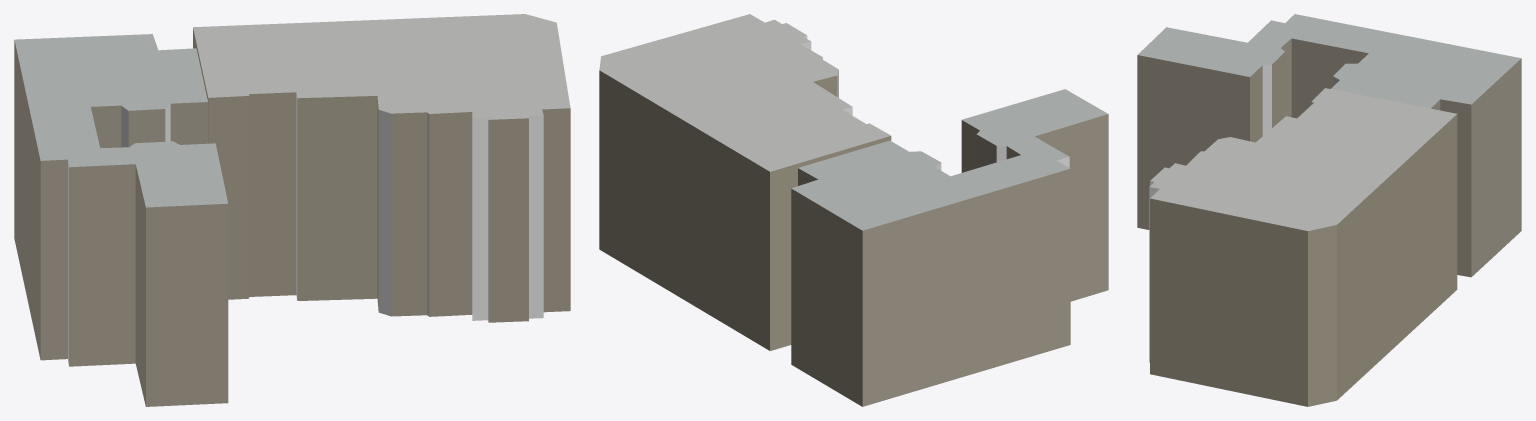
The picture shows the model from 3 angles, left to right: view 1: azimuth 30°, elevation 25°; view 2: azimuth 150°, elevation 25°; view 3: azimuth 270°, elevation 25°; orthographic projection. The views are drawn at different scales.
Parts seen in each view (by area): view 1: tuile; view 2: tuile; view 3: tuile.
Boxes of the visible parts, bbox=[...] form: tuile: bbox=[14, 14, 570, 406]; tuile: bbox=[599, 14, 1108, 406]; tuile: bbox=[1137, 14, 1521, 406].
Size of the model in its own units: 67 by 24.98 by 49.1.
